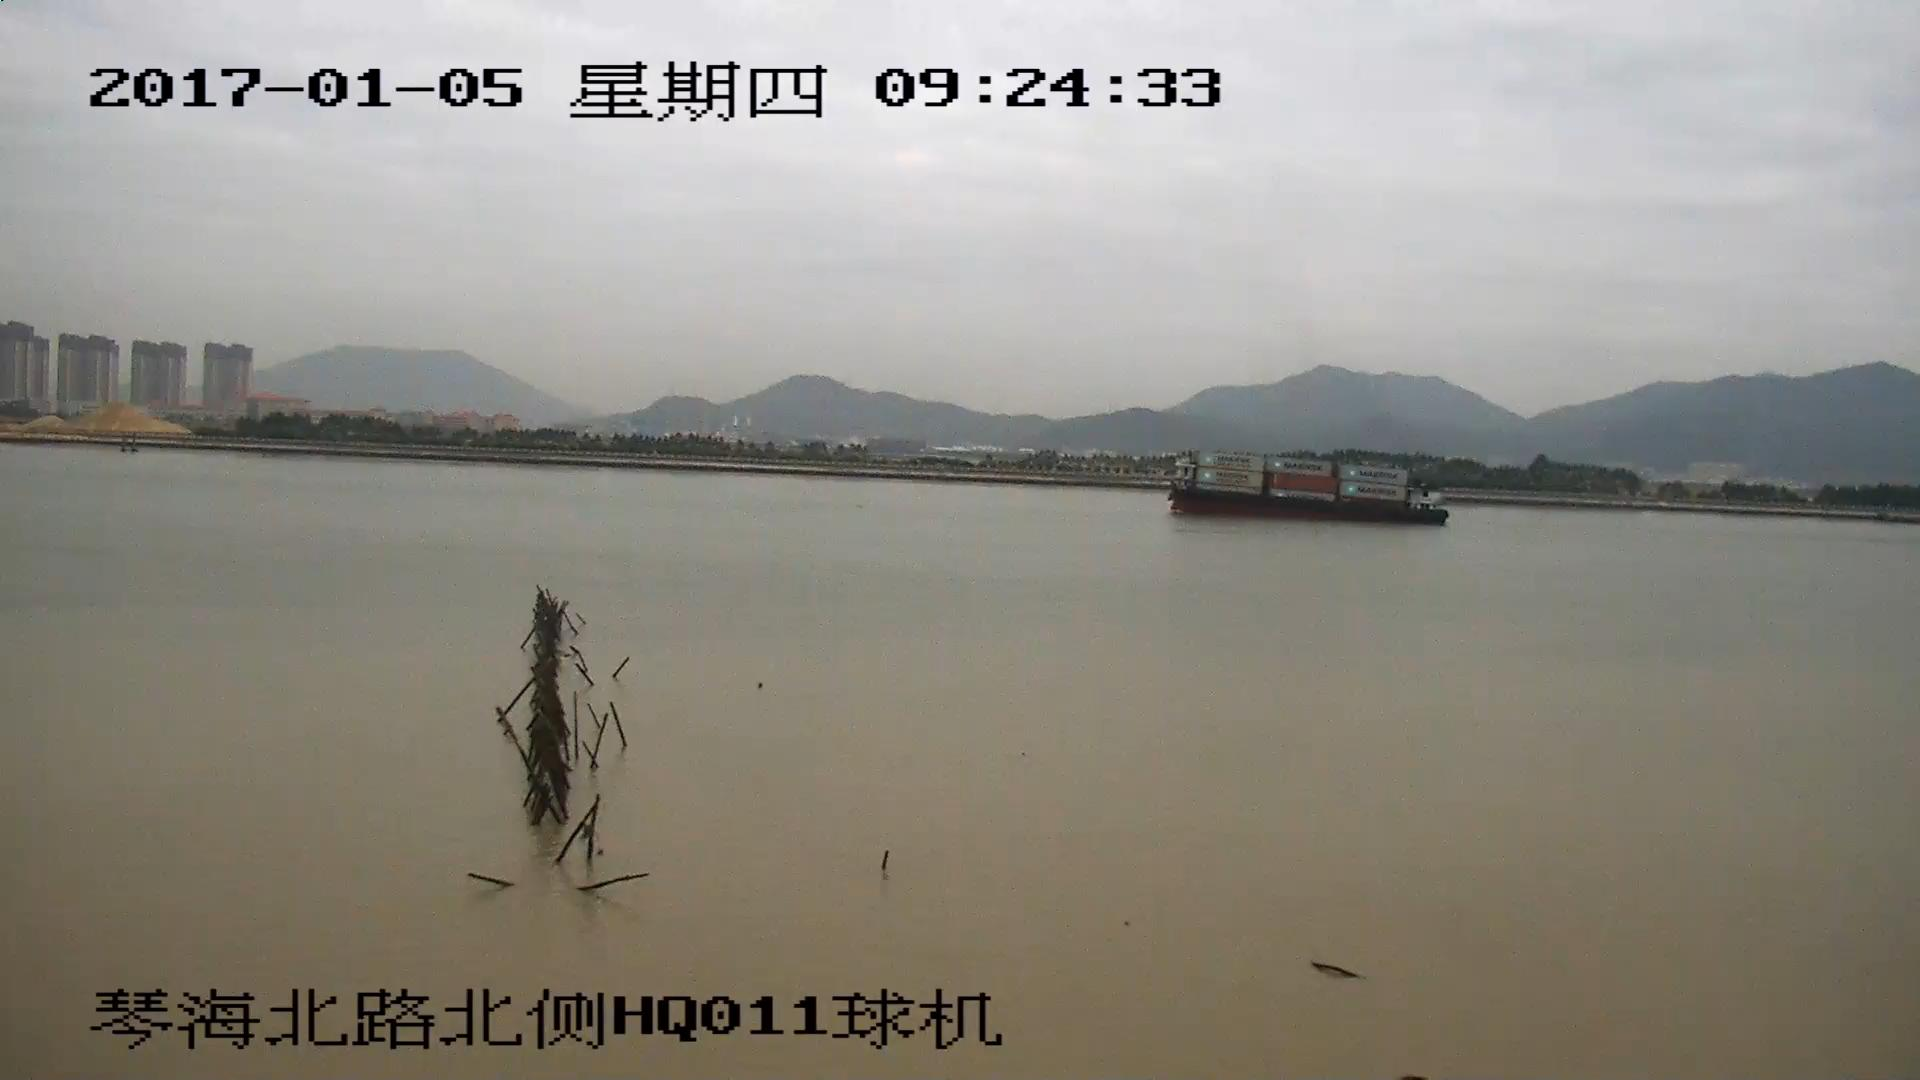container ship: (1169, 453, 1448, 524)
